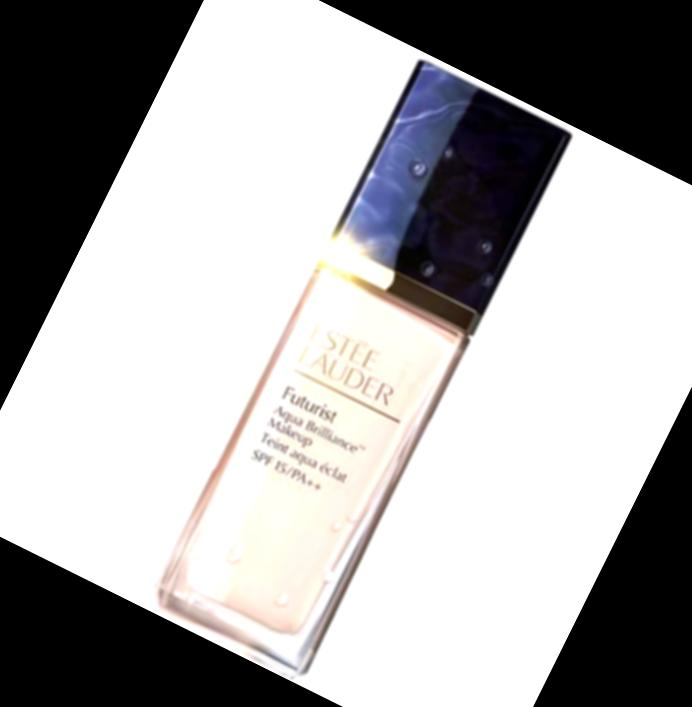cosmetic: (145, 55, 577, 684)
